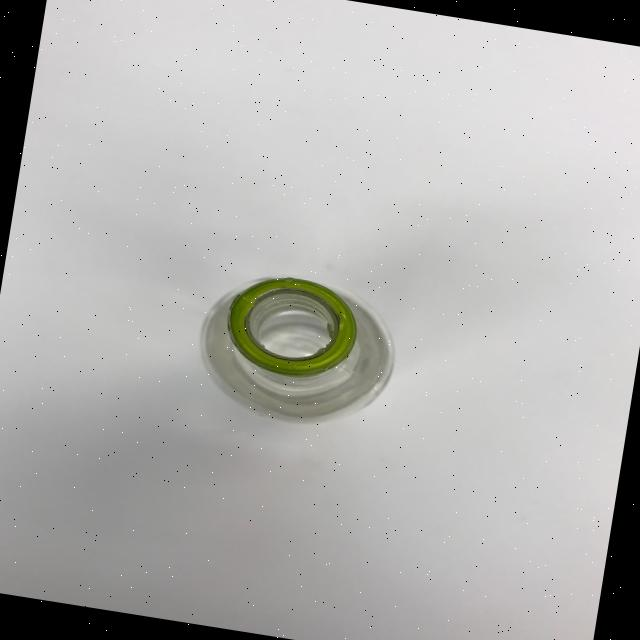glass: (188, 262, 406, 434)
